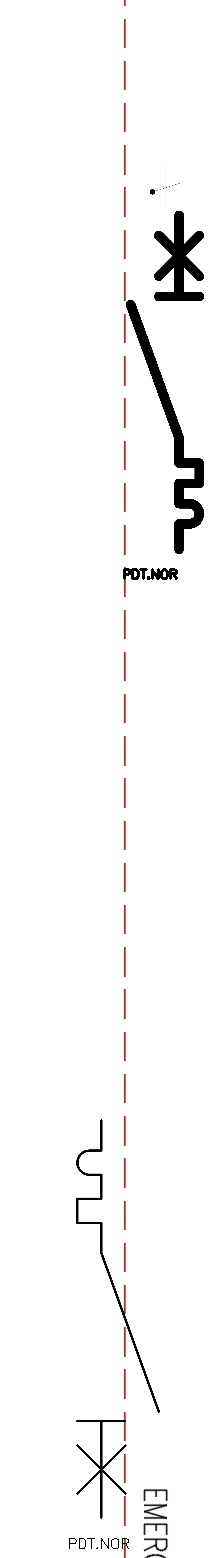interruptor_termomagnetico: (67, 1110, 169, 1528), (122, 206, 208, 557)
